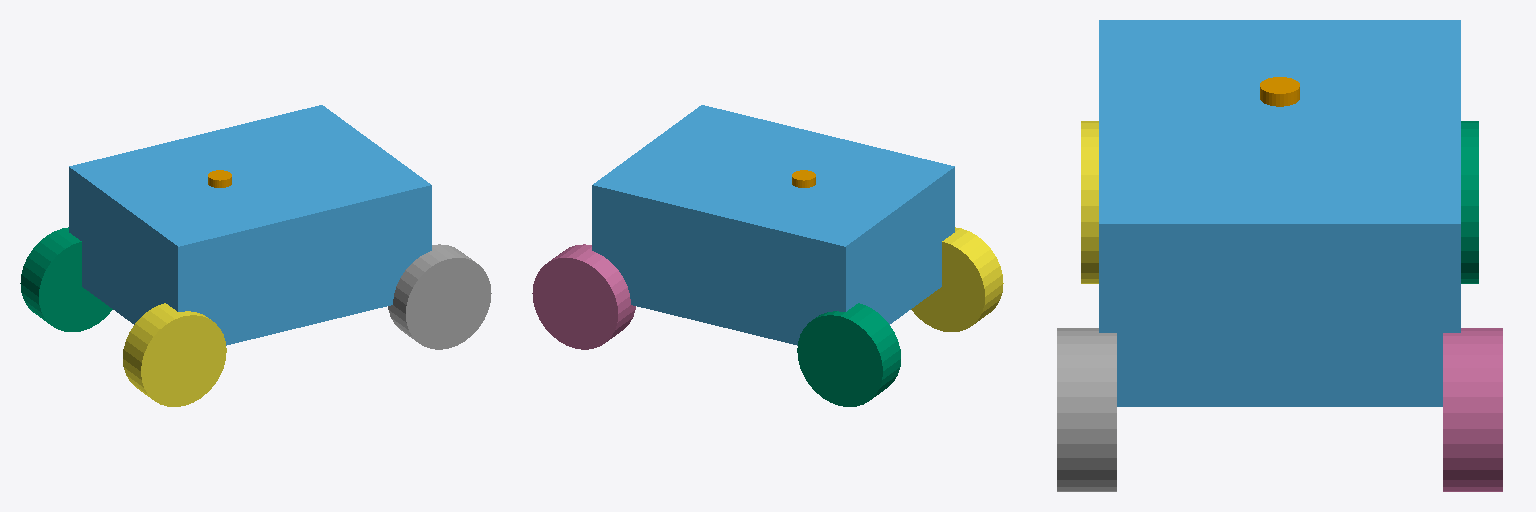
URDF robot description (ackermann_car):
<?xml version="1.0"?>
<robot name="ackermann_car">
  <!-- ================= DIMENSIONS =================
       Front track:  37.75in = 0.95885m (half: 0.479425m)
       Rear track:   33in    = 0.8382m  (half: 0.4191m)
       Wheelbase:    48in    = 1.2192m
       Sensor height from base_link origin: 51in = 1.2954m
       Sensor from rear axle: 18in = 0.4572m
       Wheel radius: 8in = 0.2032m
       Wheel width:  ~6in = 0.15m
  ================================================== -->

  <link name="base_footprint"/>

  <link name="base_link">
    <inertial>
      <origin xyz="0.6 0 0.25"/>
      <mass value="50.0"/>
      <!-- box 1.2 x 0.9 x 0.5, m=50 -->
      <inertia ixx="4.4167" ixy="0" ixz="0"
               iyy="7.0417" iyz="0"
               izz="9.3750"/>
    </inertial>
    <visual>
      <origin xyz="0.6 0 0.25"/>
      <geometry>
        <box size="1.2 0.9 0.5"/>
      </geometry>
    </visual>
    <collision>
      <origin xyz="0.6 0 0.25"/>
      <geometry>
        <box size="1.2 0.9 0.5"/>
      </geometry>
    </collision>
  </link>

  <joint name="base_footprint_joint" type="fixed">
    <origin xyz="0 0 0.1905"/>
    <parent link="base_footprint"/>
    <child link="base_link"/>
  </joint>

  <!-- ================= REAR WHEELS ================= -->
  <link name="rear_left_wheel">
    <inertial>
      <origin xyz="0 0 0"/>
      <mass value="3.0"/>
      <!-- cylinder r=0.2032, h=0.15, m=3 -->
      <inertia ixx="0.03659" ixy="0" ixz="0"
               iyy="0.03659" iyz="0"
               izz="0.06194"/>
    </inertial>
    <visual>
      <origin rpy="1.5708 0 0"/>
      <geometry><cylinder radius="0.2032" length="0.15"/></geometry>
    </visual>
    <collision>
      <origin rpy="1.5708 0 0"/>
      <geometry><cylinder radius="0.2032" length="0.15"/></geometry>
    </collision>
  </link>

  <joint name="rear_left_wheel_joint" type="continuous">
    <origin xyz="0 0.4191 0"/>
    <parent link="base_link"/>
    <child link="rear_left_wheel"/>
    <axis xyz="0 1 0"/>
  </joint>

  <link name="rear_right_wheel">
    <inertial>
      <origin xyz="0 0 0"/>
      <mass value="3.0"/>
      <inertia ixx="0.03659" ixy="0" ixz="0"
               iyy="0.03659" iyz="0"
               izz="0.06194"/>
    </inertial>
    <visual>
      <origin rpy="1.5708 0 0"/>
      <geometry><cylinder radius="0.2032" length="0.15"/></geometry>
    </visual>
    <collision>
      <origin rpy="1.5708 0 0"/>
      <geometry><cylinder radius="0.2032" length="0.15"/></geometry>
    </collision>
  </link>

  <joint name="rear_right_wheel_joint" type="continuous">
    <origin xyz="0 -0.4191 0"/>
    <parent link="base_link"/>
    <child link="rear_right_wheel"/>
    <axis xyz="0 1 0"/>
  </joint>

  <!-- ================= FRONT STEER LINKS ================= -->
  <link name="front_left_steer_link">
    <inertial>
      <origin xyz="0 0 0"/>
      <mass value="0.5"/>
      <inertia ixx="0.001" ixy="0" ixz="0"
               iyy="0.001" iyz="0"
               izz="0.001"/>
    </inertial>
  </link>

  <link name="front_right_steer_link">
    <inertial>
      <origin xyz="0 0 0"/>
      <mass value="0.5"/>
      <inertia ixx="0.001" ixy="0" ixz="0"
               iyy="0.001" iyz="0"
               izz="0.001"/>
    </inertial>
  </link>

  <joint name="front_left_steering_joint" type="revolute">
    <origin xyz="1.2192 0.479425 0"/>
    <parent link="base_link"/>
    <child link="front_left_steer_link"/>
    <axis xyz="0 0 1"/>
    <limit lower="-0.6" upper="0.6" effort="50" velocity="2"/>
  </joint>

  <joint name="front_right_steering_joint" type="revolute">
    <origin xyz="1.2192 -0.479425 0"/>
    <parent link="base_link"/>
    <child link="front_right_steer_link"/>
    <axis xyz="0 0 1"/>
    <limit lower="-0.6" upper="0.6" effort="50" velocity="2"/>
  </joint>

  <!-- ================= FRONT WHEELS ================= -->
  <link name="front_left_wheel">
    <inertial>
      <origin xyz="0 0 0"/>
      <mass value="3.0"/>
      <inertia ixx="0.03659" ixy="0" ixz="0"
               iyy="0.03659" iyz="0"
               izz="0.06194"/>
    </inertial>
    <visual>
      <origin rpy="1.5708 0 0"/>
      <geometry><cylinder radius="0.2032" length="0.15"/></geometry>
    </visual>
    <collision>
      <origin rpy="1.5708 0 0"/>
      <geometry><cylinder radius="0.2032" length="0.15"/></geometry>
    </collision>
  </link>

  <joint name="front_left_wheel_joint" type="continuous">
    <parent link="front_left_steer_link"/>
    <child link="front_left_wheel"/>
    <axis xyz="0 1 0"/>
  </joint>

  <link name="front_right_wheel">
    <inertial>
      <origin xyz="0 0 0"/>
      <mass value="3.0"/>
      <inertia ixx="0.03659" ixy="0" ixz="0"
               iyy="0.03659" iyz="0"
               izz="0.06194"/>
    </inertial>
    <visual>
      <origin rpy="1.5708 0 0"/>
      <geometry><cylinder radius="0.2032" length="0.15"/></geometry>
    </visual>
    <collision>
      <origin rpy="1.5708 0 0"/>
      <geometry><cylinder radius="0.2032" length="0.15"/></geometry>
    </collision>
  </link>

  <joint name="front_right_wheel_joint" type="continuous">
    <parent link="front_right_steer_link"/>
    <child link="front_right_wheel"/>
    <axis xyz="0 1 0"/>
  </joint>

  <!-- ================= LIDAR ================= -->
  <link name="lidar_link">
    <inertial>
      <origin xyz="0 0 0"/>
      <mass value="0.125"/>
      <!-- cylinder r=0.05, h=0.07, m=0.125 -->
      <inertia ixx="0.000129" ixy="0" ixz="0"
               iyy="0.000129" iyz="0"
               izz="0.000156"/>
    </inertial>
    <visual>
      <origin xyz="0 0 0"/>
      <geometry>
        <cylinder radius="0.05" length="0.07"/>
      </geometry>
    </visual>
    <collision>
      <origin xyz="0 0 0"/>
      <geometry>
        <cylinder radius="0.05" length="0.07"/>
      </geometry>
    </collision>
  </link>

  <joint name="lidar_joint" type="fixed">
    <origin xyz="0.4572 0 0.5"/>
    <parent link="base_link"/>
    <child link="lidar_link"/>
  </joint>

  <!-- ================= GAZEBO PLUGINS ================= -->

  <!-- Ackermann Steering -->
  <gazebo>
    <plugin filename="libgz-sim-ackermann-steering-system.so"
            name="gz::sim::systems::AckermannSteering">
      <topic>/cmd_vel</topic>
      <left_joint>rear_left_wheel_joint</left_joint>
      <right_joint>rear_right_wheel_joint</right_joint>
      <left_steering_joint>front_left_steering_joint</left_steering_joint>
      <right_steering_joint>front_right_steering_joint</right_steering_joint>
      <wheel_base>1.2192</wheel_base>
      <wheel_separation>0.8382</wheel_separation>
      <wheel_radius>0.2032</wheel_radius>
      <steering_limit>0.6</steering_limit>
      <odometry_frame>ackermann_car/odom</odometry_frame>
      <robot_base_frame>ackermann_car/base_footprint</robot_base_frame>
      <publish_odom_tf>false</publish_odom_tf> 
    </plugin>
  </gazebo>

  <!-- Joint State Publisher -->
  <gazebo>
    <plugin filename="libgz-sim-joint-state-publisher-system.so"
            name="gz::sim::systems::JointStatePublisher">
      <topic>/joint_states</topic>
    </plugin>
  </gazebo>
  <gazebo>
    <plugin filename="libgz-sim-odometry-publisher-system.so"
            name="gz::sim::systems::OdometryPublisher">
      <odom_frame>ackermann_car/odom</odom_frame>
      <robot_base_frame>ackermann_car/base_footprint</robot_base_frame>
      <odom_topic>/carodomfromGazebo</odom_topic>
      <odom_publish_frequency>50</odom_publish_frequency>
    </plugin>
  </gazebo>
  <!-- ================= WHEEL FRICTION =================
       mu1 = longitudinal (rolling direction) — high for traction
       mu2 = lateral (perpendicular) — lower to allow natural Ackermann slip
       kp/kd = contact stiffness/damping — prevents wheel sinking
  ================================================== -->

  <gazebo reference="rear_left_wheel">
    <mu1>0.9</mu1>
    <mu2>0.9</mu2>
    <kp>1000000.0</kp>
    <kd>100.0</kd>
    <minDepth>0.001</minDepth>
    <maxVel>1.0</maxVel>
  </gazebo>

  <gazebo reference="rear_right_wheel">
    <mu1>0.9</mu1>
    <mu2>0.9</mu2>
    <kp>1000000.0</kp>
    <kd>100.0</kd>
    <minDepth>0.001</minDepth>
    <maxVel>1.0</maxVel>
  </gazebo>

  <gazebo reference="front_left_wheel">
    <mu1>0.9</mu1>
    <mu2>0.9</mu2>
    <kp>1000000.0</kp>
    <kd>100.0</kd>
    <minDepth>0.001</minDepth>
    <maxVel>1.0</maxVel>
  </gazebo>

  <gazebo reference="front_right_wheel">
    <mu1>0.9</mu1>
    <mu2>0.9</mu2>
    <kp>1000000.0</kp>
    <kd>100.0</kd>
    <minDepth>0.001</minDepth>
    <maxVel>1.0</maxVel>
  </gazebo>

  <!-- ================= LIDAR SENSOR ================= -->
  <gazebo reference="lidar_link">
    <sensor name="lidar" type="gpu_lidar">
      <pose>0 0 0 0 0 0</pose>
      <topic>/scan</topic>
      <update_rate>10</update_rate>
      <lidar>
        <scan>
          <horizontal>
            <samples>360</samples>
            <resolution>1</resolution>
            <min_angle>-3.14159</min_angle>
            <max_angle>3.14159</max_angle>
          </horizontal>
        </scan>
        <range>
          <min>0.12</min>
          <max>30.0</max>
          <resolution>0.01</resolution>
        </range>
        <noise>
          <type>gaussian</type>
          <mean>0.0</mean>
          <stddev>0.01</stddev>
        </noise>
      </lidar>
      <always_on>1</always_on>
      <visualize>true</visualize>
    </sensor>
  </gazebo>

</robot>

--- Facts derived from the render (not from the file) ---
Views: 3 orthographic renders of the robot side by side, from view 1: azimuth 30°, elevation 25°; view 2: azimuth 150°, elevation 25°; view 3: azimuth 270°, elevation 25°.
Model ackermann_car with 9 links and 8 joints (2 revolute, 4 continuous, 2 fixed), rooted at base_footprint, posed every joint at zero.
Links seen in each view (by area): view 1: base_link, rear_right_wheel, front_right_wheel, rear_left_wheel; view 2: base_link, rear_left_wheel, front_left_wheel, rear_right_wheel; view 3: base_link, front_left_wheel, front_right_wheel, rear_left_wheel, rear_right_wheel, lidar_link.
Boxes of the visible links, x1,y1,x2,y2 form: base_link: (69, 105, 431, 345); rear_right_wheel: (123, 303, 226, 406); front_right_wheel: (388, 244, 491, 349); rear_left_wheel: (20, 227, 112, 331); base_link: (592, 105, 954, 345); rear_left_wheel: (797, 303, 900, 406); front_left_wheel: (532, 244, 635, 349); rear_right_wheel: (911, 227, 1003, 331); base_link: (1099, 20, 1460, 406); front_left_wheel: (1443, 328, 1502, 491); front_right_wheel: (1057, 328, 1116, 491); rear_left_wheel: (1461, 121, 1478, 283); rear_right_wheel: (1081, 121, 1098, 283); lidar_link: (1260, 77, 1299, 106).
Bounding box of the posed robot: 1.63 × 1.11 × 0.7382 m (x, y, z).
Geometry: primitives only (box / cylinder / sphere), no mesh files.
